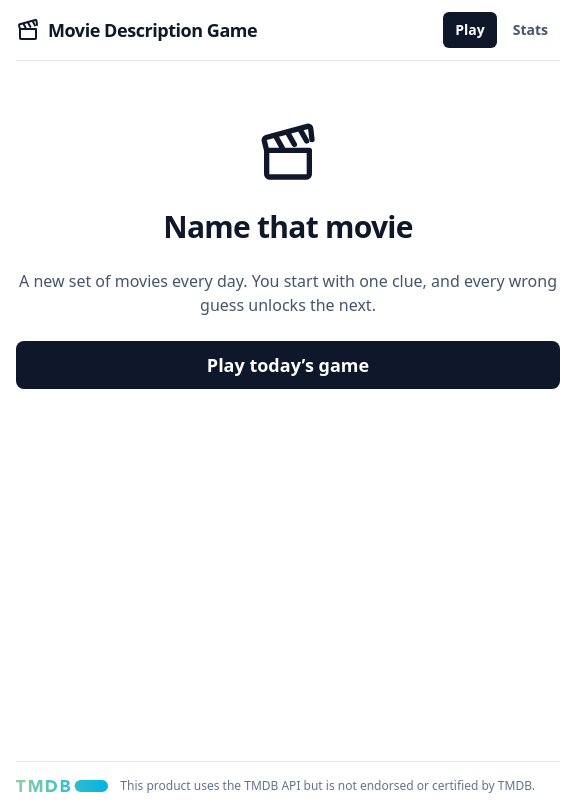
Test: game page › random fills the guess box and only guesses once confirmed
Click the button "Play today’s game" at x=288, y=365, box x1=16 y1=341 x2=560 y2=389
(page scrolled)
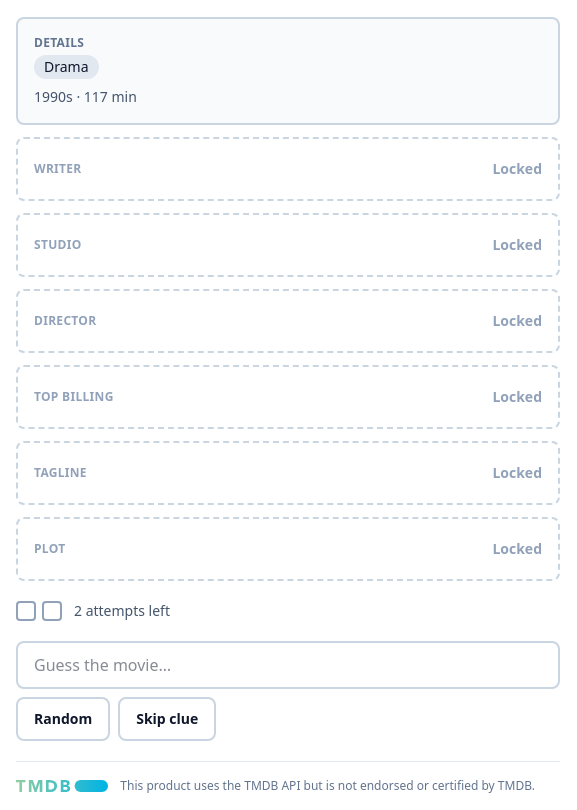
Click the button "Random" at x=63, y=719, box x1=16 y1=697 x2=110 y2=741
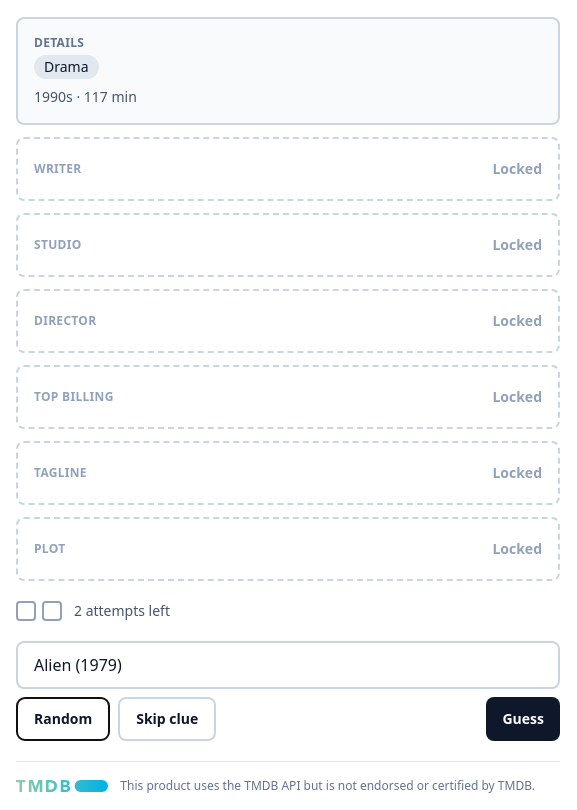
Check: the dropdown showing "Alien (1979)" is shown, box x1=16 y1=641 x2=560 y2=689
Click the button "Guess" at x=523, y=719, box x1=486 y1=697 x2=560 y2=741
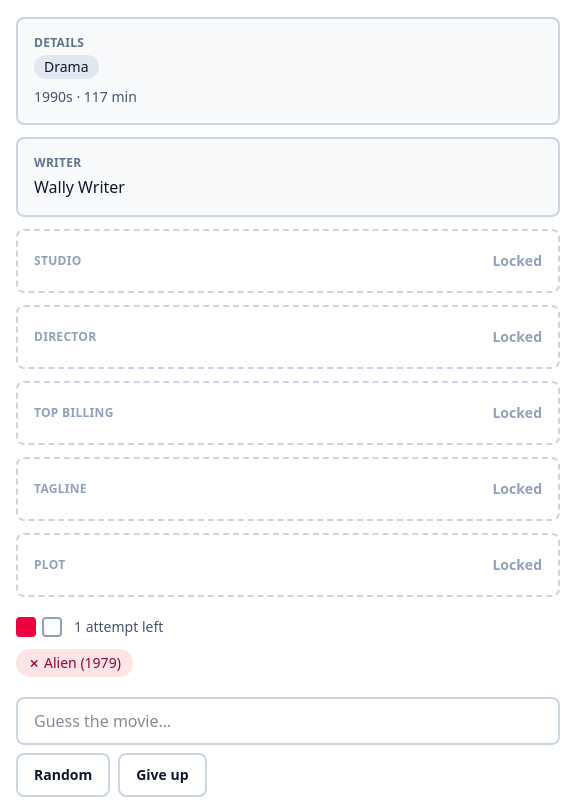
Check: the text "1 attempt left" is shown, box x1=74 y1=617 x2=163 y2=637
Check: the dropdown is empty, box x1=16 y1=697 x2=560 y2=745
